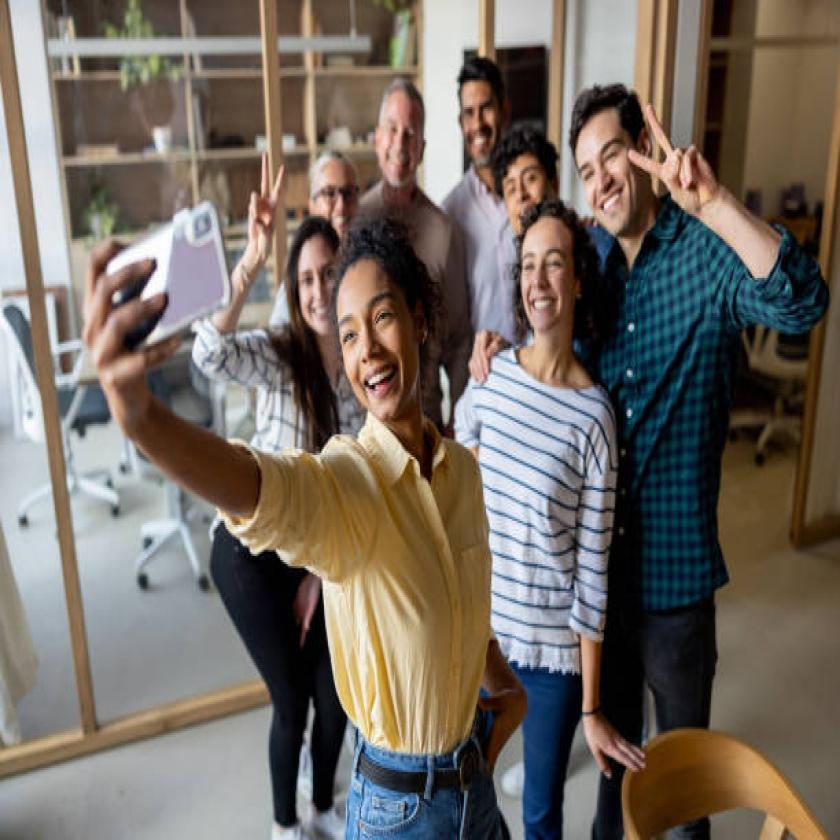Sin_casco: (328, 217, 461, 442), (570, 81, 674, 237), (513, 203, 586, 355), (487, 111, 555, 253), (367, 62, 428, 204), (280, 205, 346, 336), (442, 38, 499, 177), (314, 135, 354, 235)
